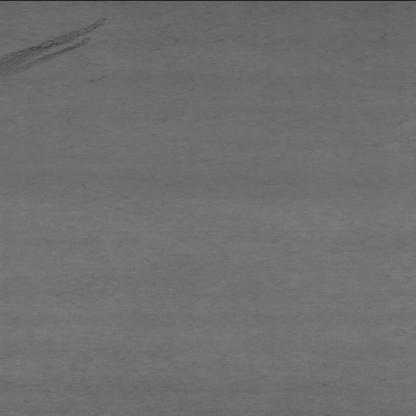water_spot: (0, 10, 115, 82)
